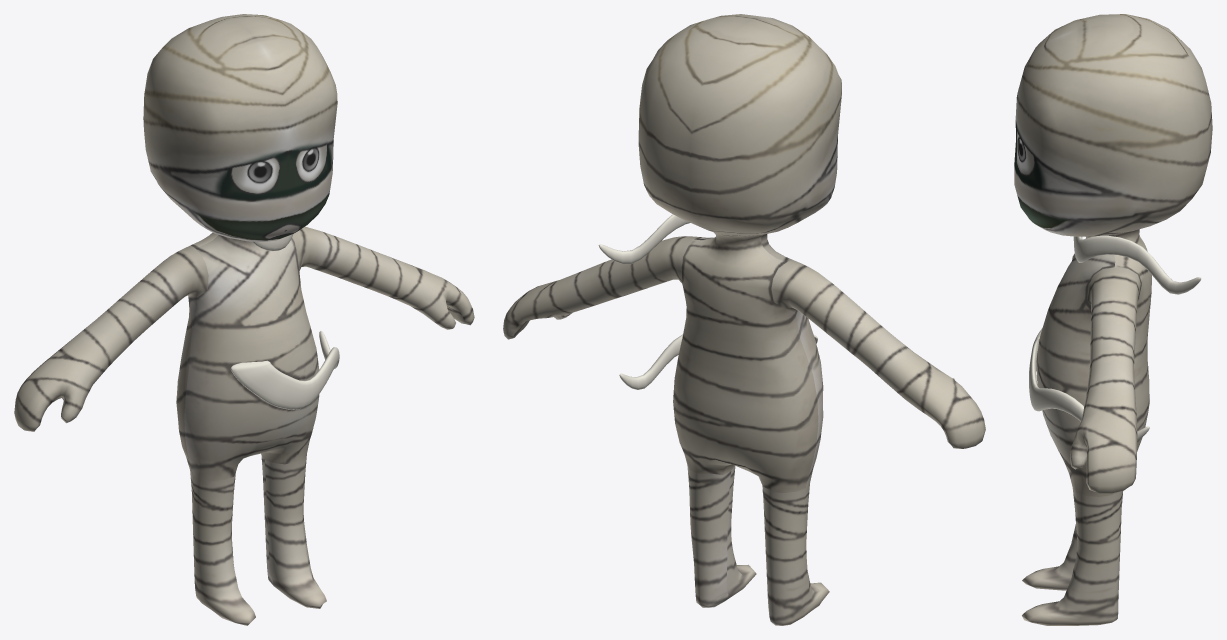
The model's file is mom1.glb.
3 views of the same model, side by side, from view 1: azimuth 30°, elevation 25°; view 2: azimuth 150°, elevation 25°; view 3: azimuth 270°, elevation 25° (orthographic). The views are drawn at different scales.
Parts seen in each view (by area): view 1: mummy, pCube1; view 2: mummy, pCube2, pCube1; view 3: mummy, pCube2, pCube1.
Part boxes in pixels (<box>): mummy: <box>14,14,474,625</box>; pCube1: <box>230,331,339,409</box>; mummy: <box>503,14,985,625</box>; pCube2: <box>598,214,690,263</box>; pCube1: <box>619,334,817,389</box>; mummy: <box>1014,14,1212,625</box>; pCube2: <box>1073,235,1201,294</box>; pCube1: <box>1029,328,1149,440</box>.
Size of the model in its own units: 2.49 by 2.98 by 0.9276.
Materials: 2 (1 with a texture image).
